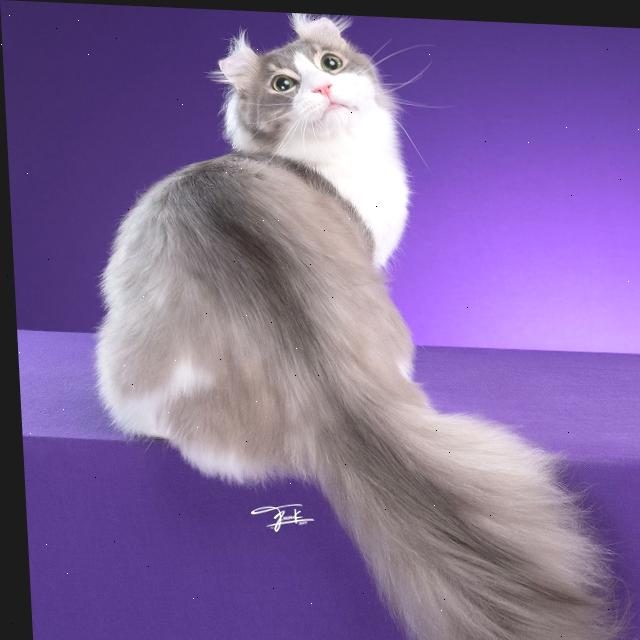American Curl: (70, 2, 622, 640)
